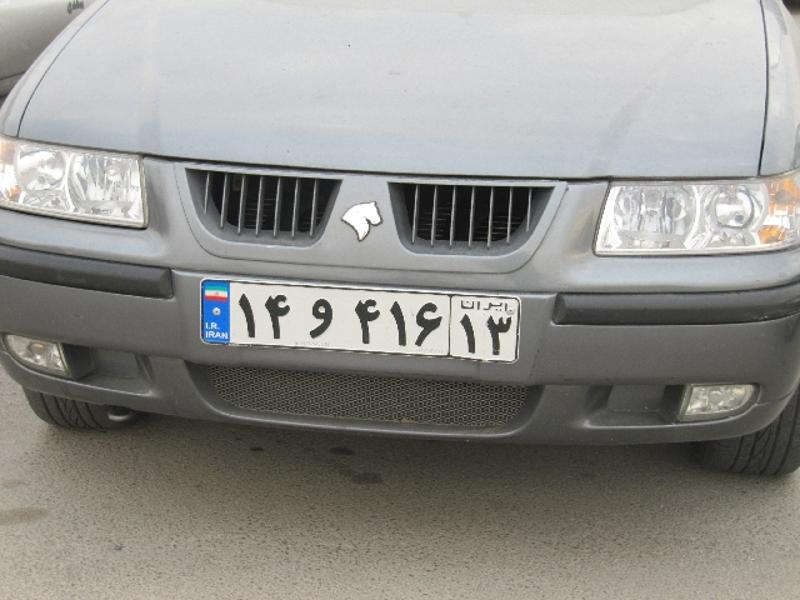Plate: (188, 286, 534, 369)
